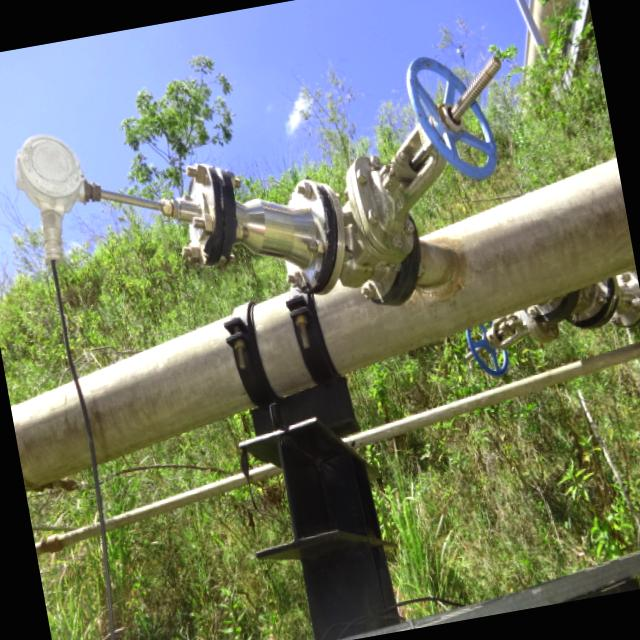gas: (11, 158, 635, 492)
